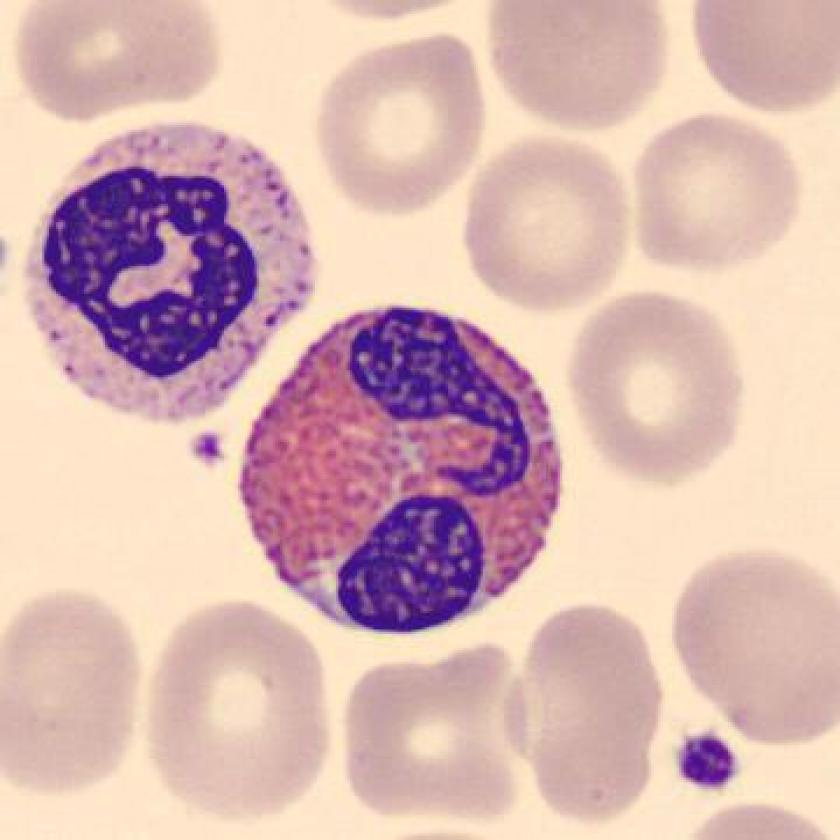eosinophil: (225, 295, 580, 644)
